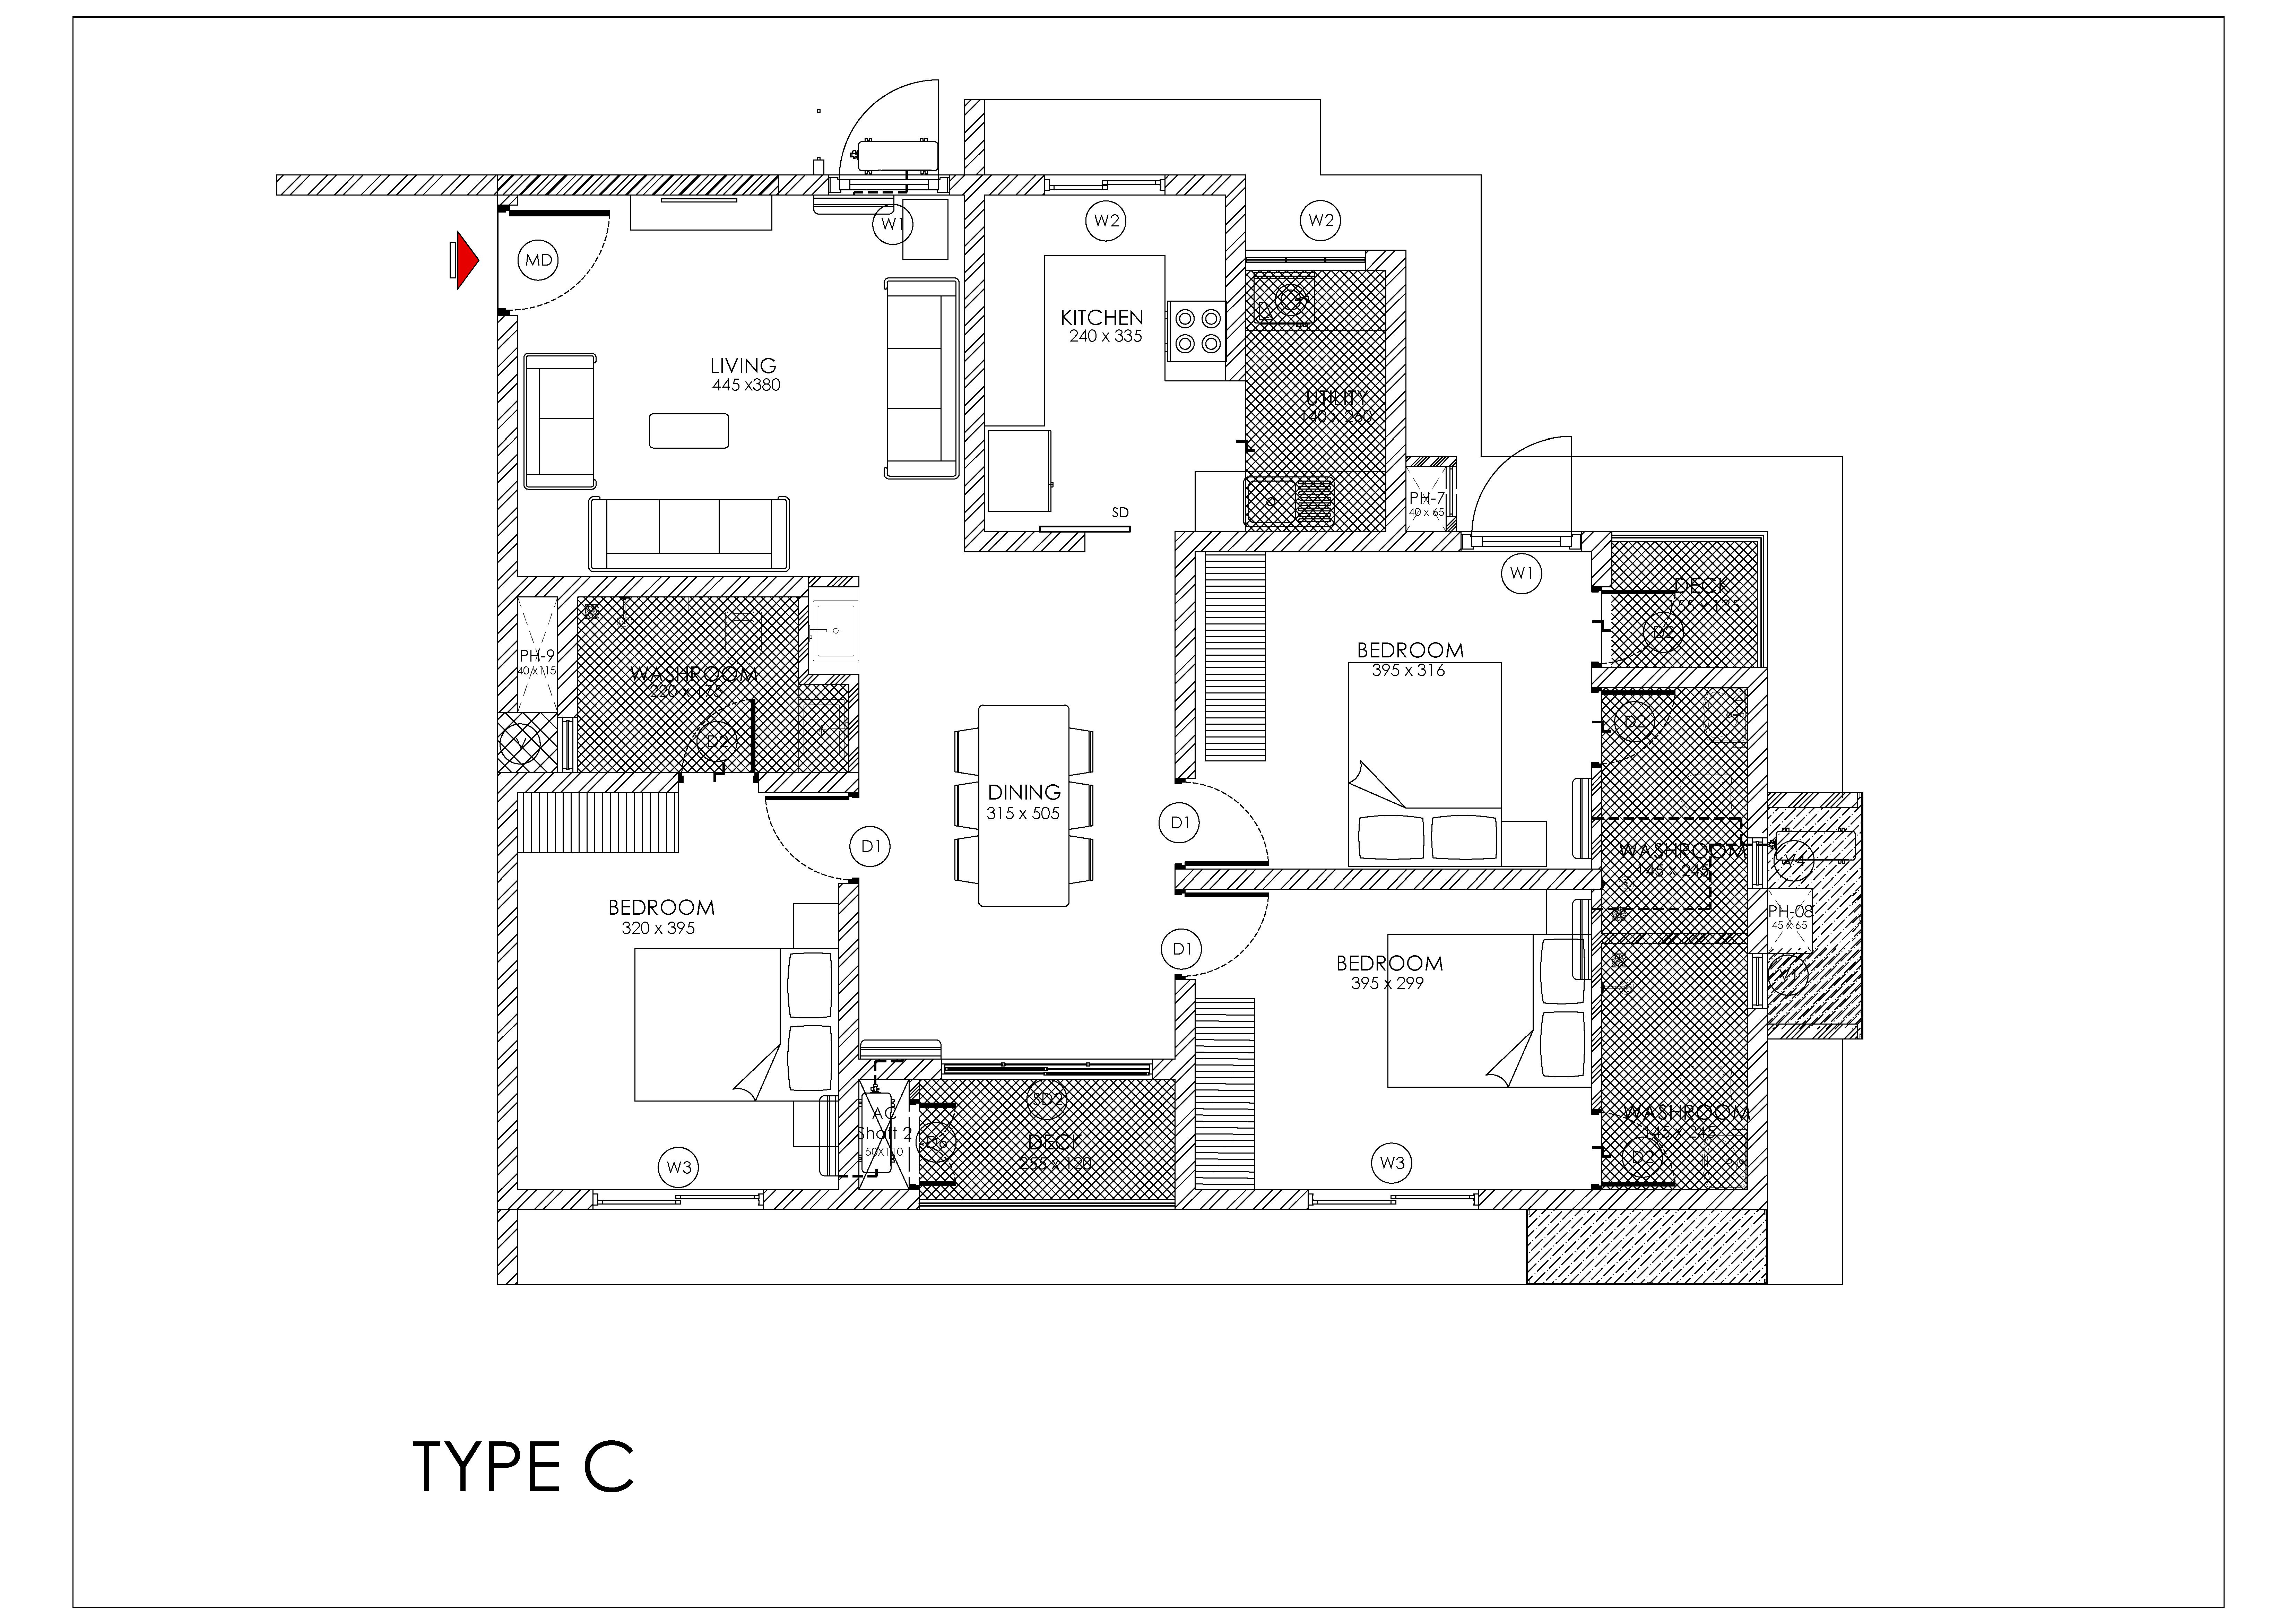door: (502, 202, 616, 321), (1173, 883, 1274, 988), (1176, 778, 1271, 874), (764, 792, 857, 886), (1597, 686, 1675, 778), (1601, 588, 1678, 671), (679, 697, 757, 778), (1596, 1109, 1675, 1185)
